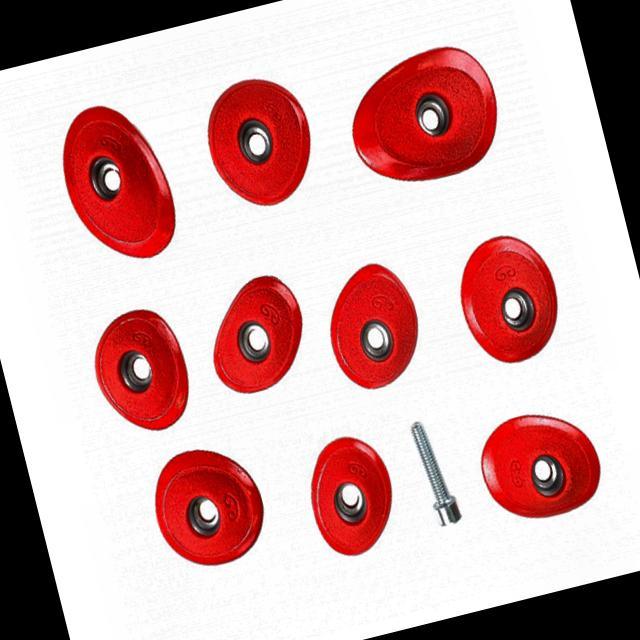Hold: (332, 33, 514, 198), (53, 92, 189, 274), (470, 398, 612, 532), (197, 68, 325, 215), (142, 438, 273, 578), (446, 230, 569, 372), (195, 264, 318, 404), (81, 302, 200, 443), (316, 255, 432, 398), (295, 430, 405, 563)
